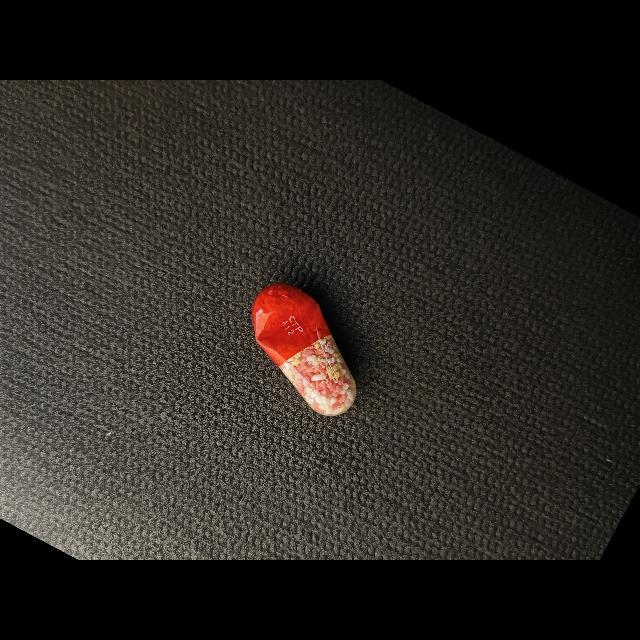Defective Capsule: (252, 284, 356, 416)
